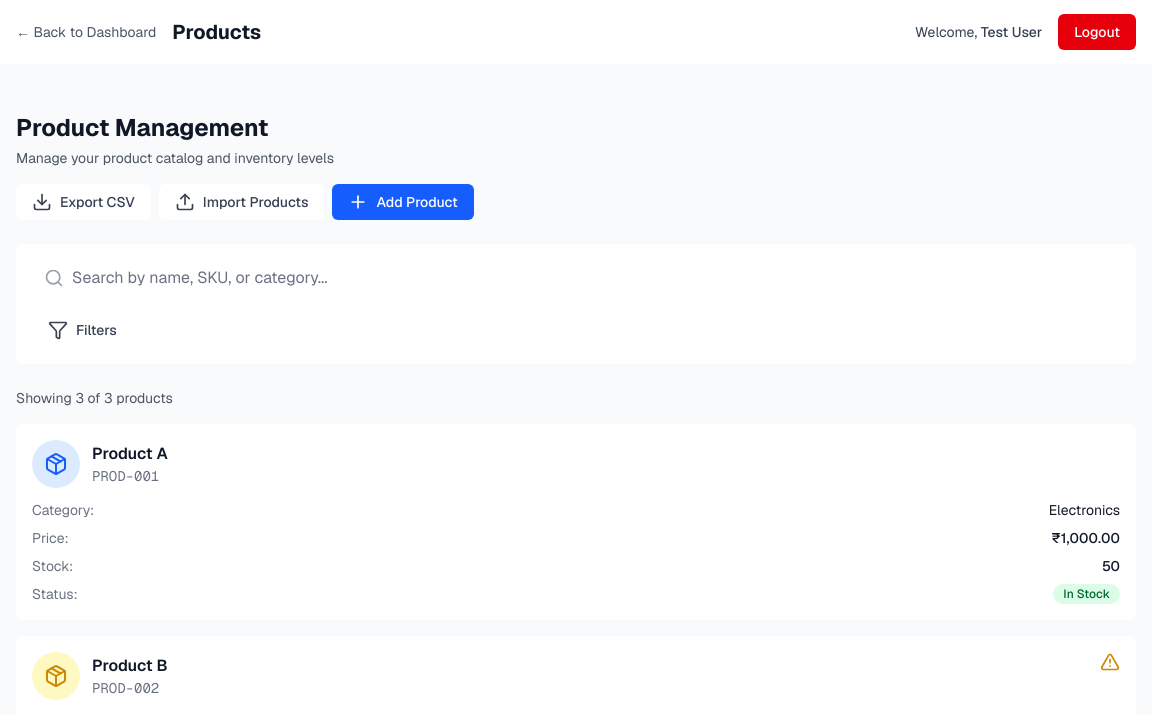
it: ProductsPage › Filter Functionality › should filter by stock status - Low Stock
Click the button with aria-label "Toggle filters": x=96, y=330 [32,312,1120,348]
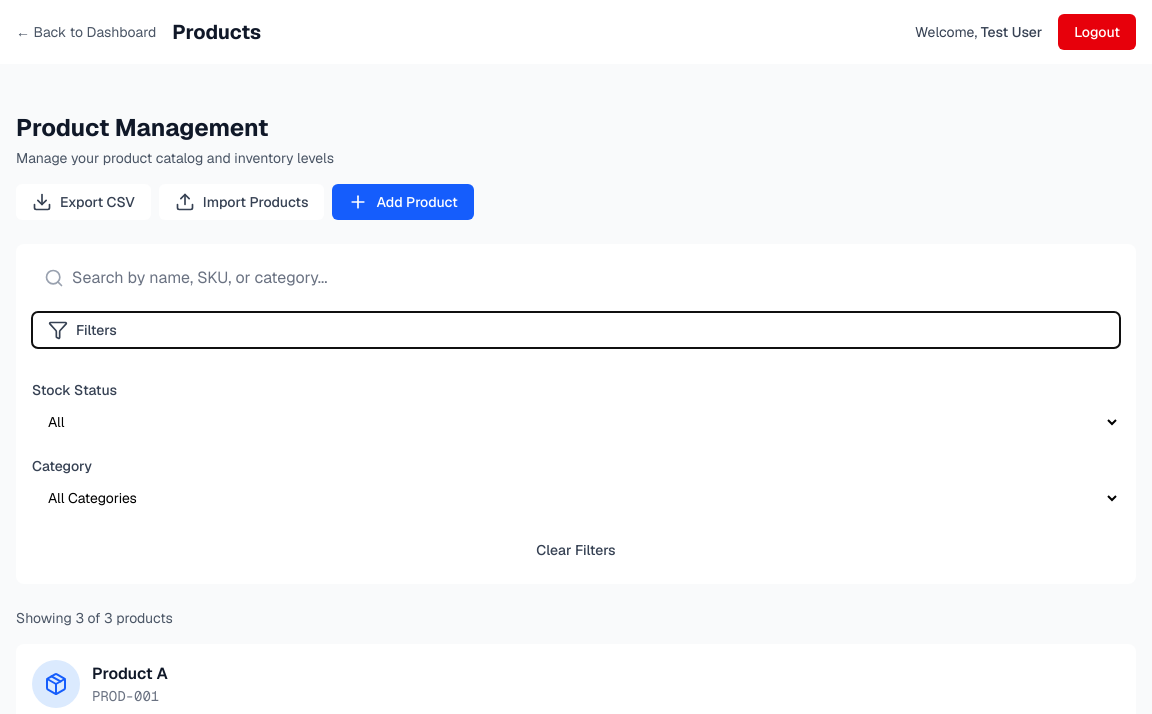
Select "Low Stock" in the dropdown labelled "Stock Status": x=576, y=422 [32,404,1120,440]
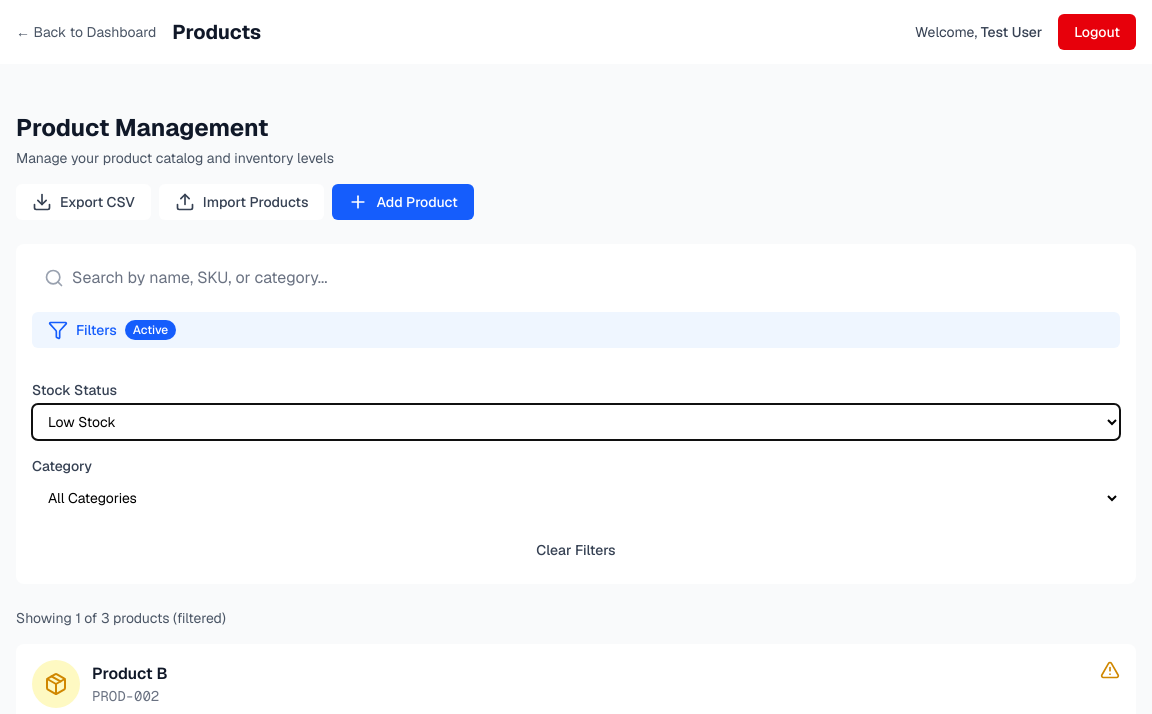
expect the heading "Product A" is gone: met
